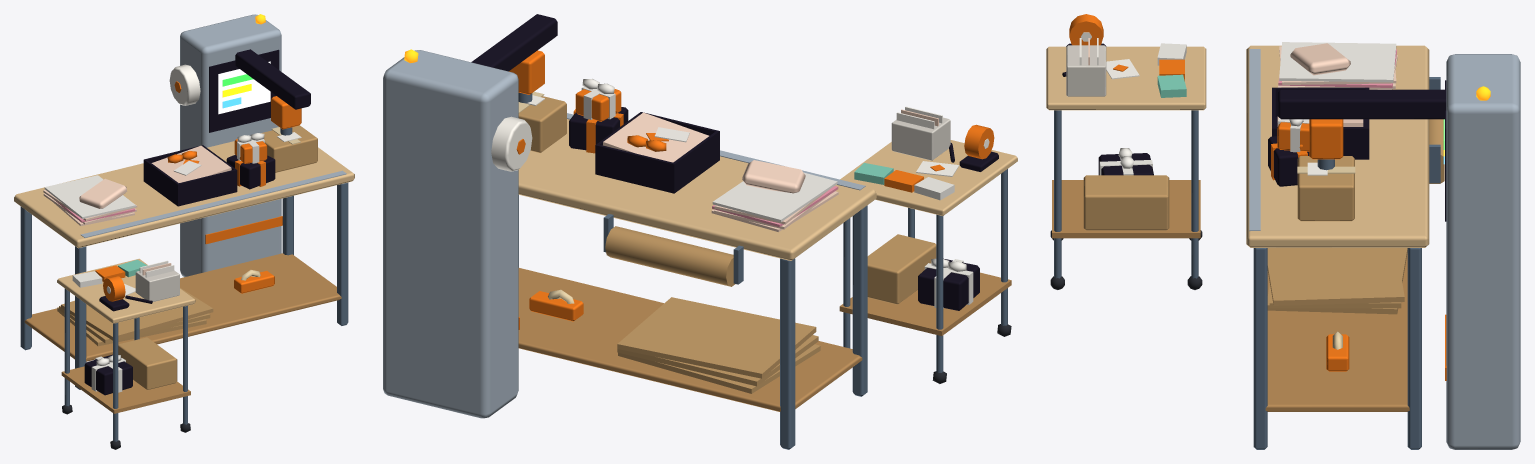
Rendered from station_processing_3.glb.
3 views of the same model, side by side, from view 1: azimuth 30°, elevation 25°; view 2: azimuth 150°, elevation 25°; view 3: azimuth 270°, elevation 25° (orthographic). The views are drawn at different scales.
Parts seen in each view (by area): view 1: station_processing_3; view 2: station_processing_3; view 3: station_processing_3.
Part boxes in pixels (box(x1,y1,x2,y2)): station_processing_3: box(14, 14, 354, 449); station_processing_3: box(383, 14, 1017, 449); station_processing_3: box(1046, 14, 1520, 449).
Bounding box in the file's own units: 1.8 × 1.39 × 1.66.
